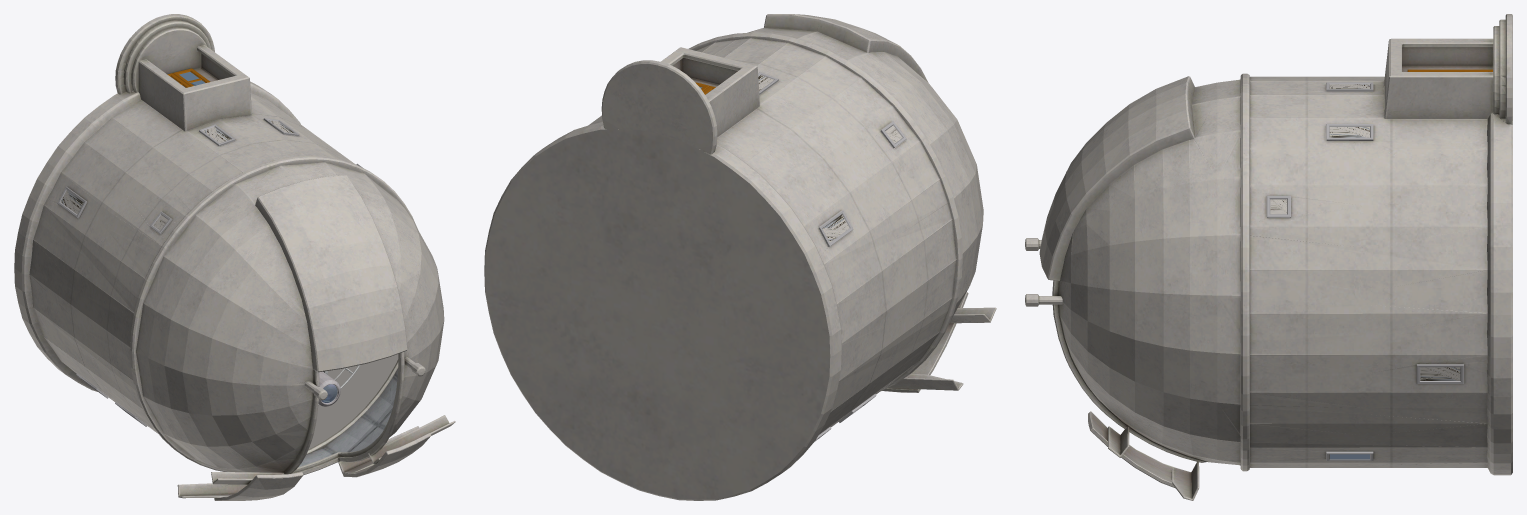
The model's file is ESA Optical Ground Station.obj.
The picture shows the model from 3 angles, left to right: view 1: azimuth 30°, elevation 25°; view 2: azimuth 150°, elevation 25°; view 3: azimuth 270°, elevation 25°; orthographic projection. The views are drawn at different scales.
Parts seen in each view (by area): view 1: Object.1, Object.2, Object.3; view 2: Object.1; view 3: Object.1, Object.2.
Part boxes in pixels (x1,y1,x2,y2): Object.1: (14, 14, 455, 500); Object.2: (338, 426, 431, 477); Object.3: (318, 365, 360, 406); Object.1: (484, 14, 996, 500); Object.1: (1025, 14, 1512, 475); Object.2: (1088, 411, 1199, 500).
Size of the model in its own units: 426 by 505 by 512.
2 materials, 2 textured.
